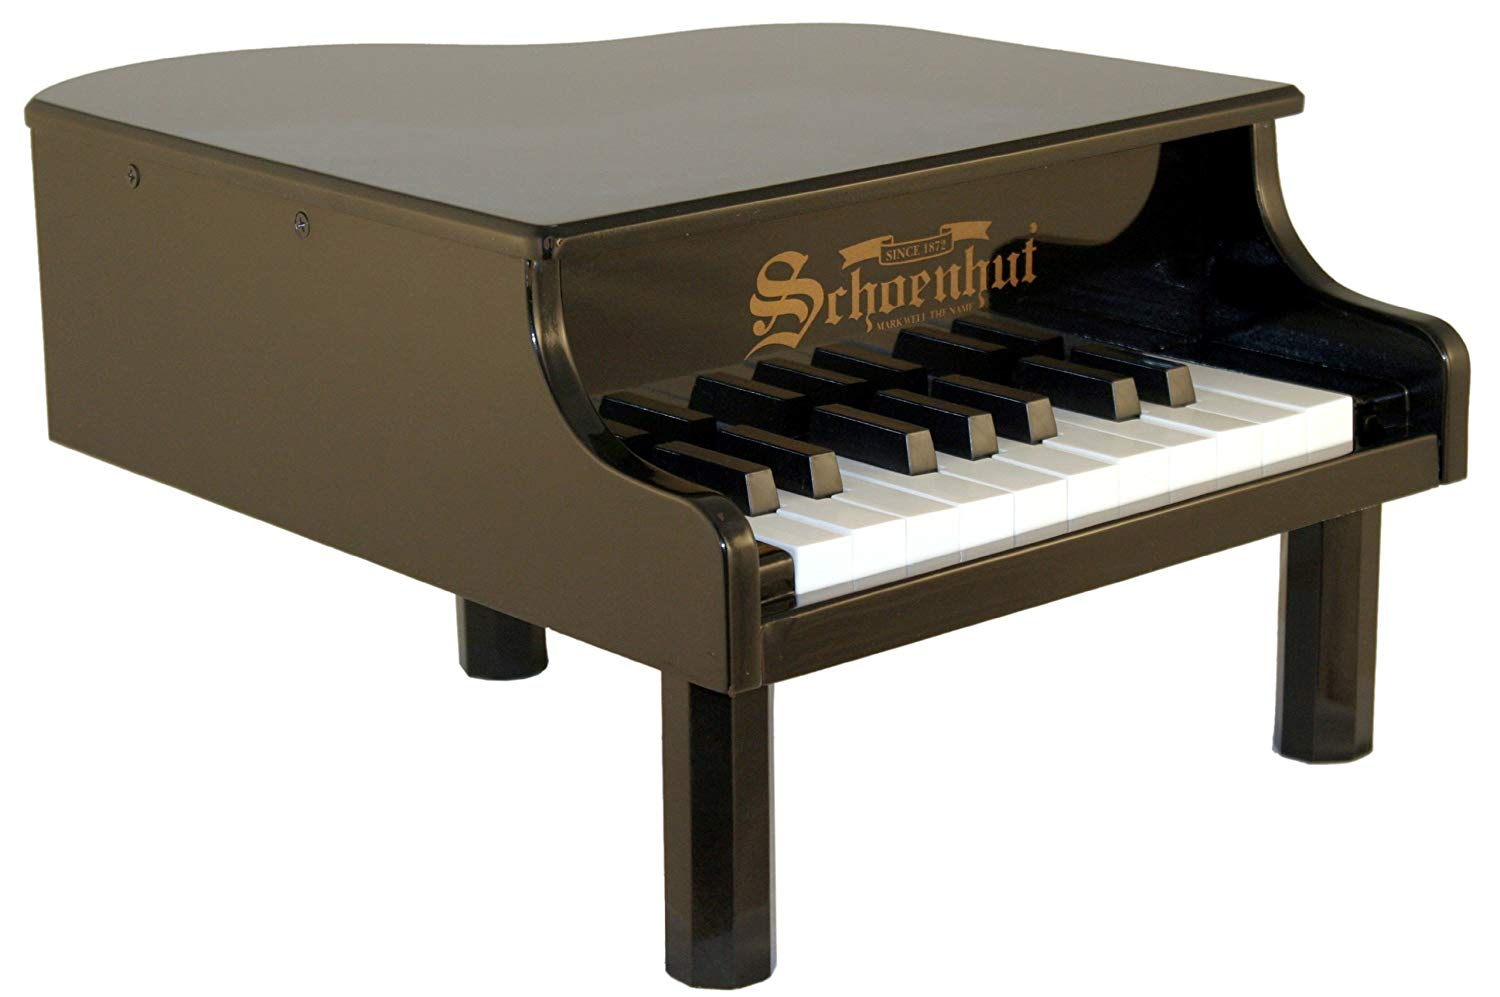GrandPiano: (22, 43, 1497, 639)
